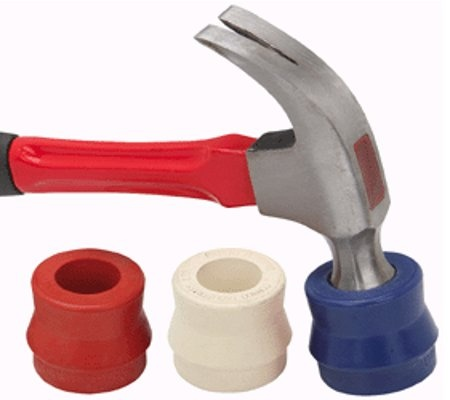hammer: (1, 2, 442, 394)
